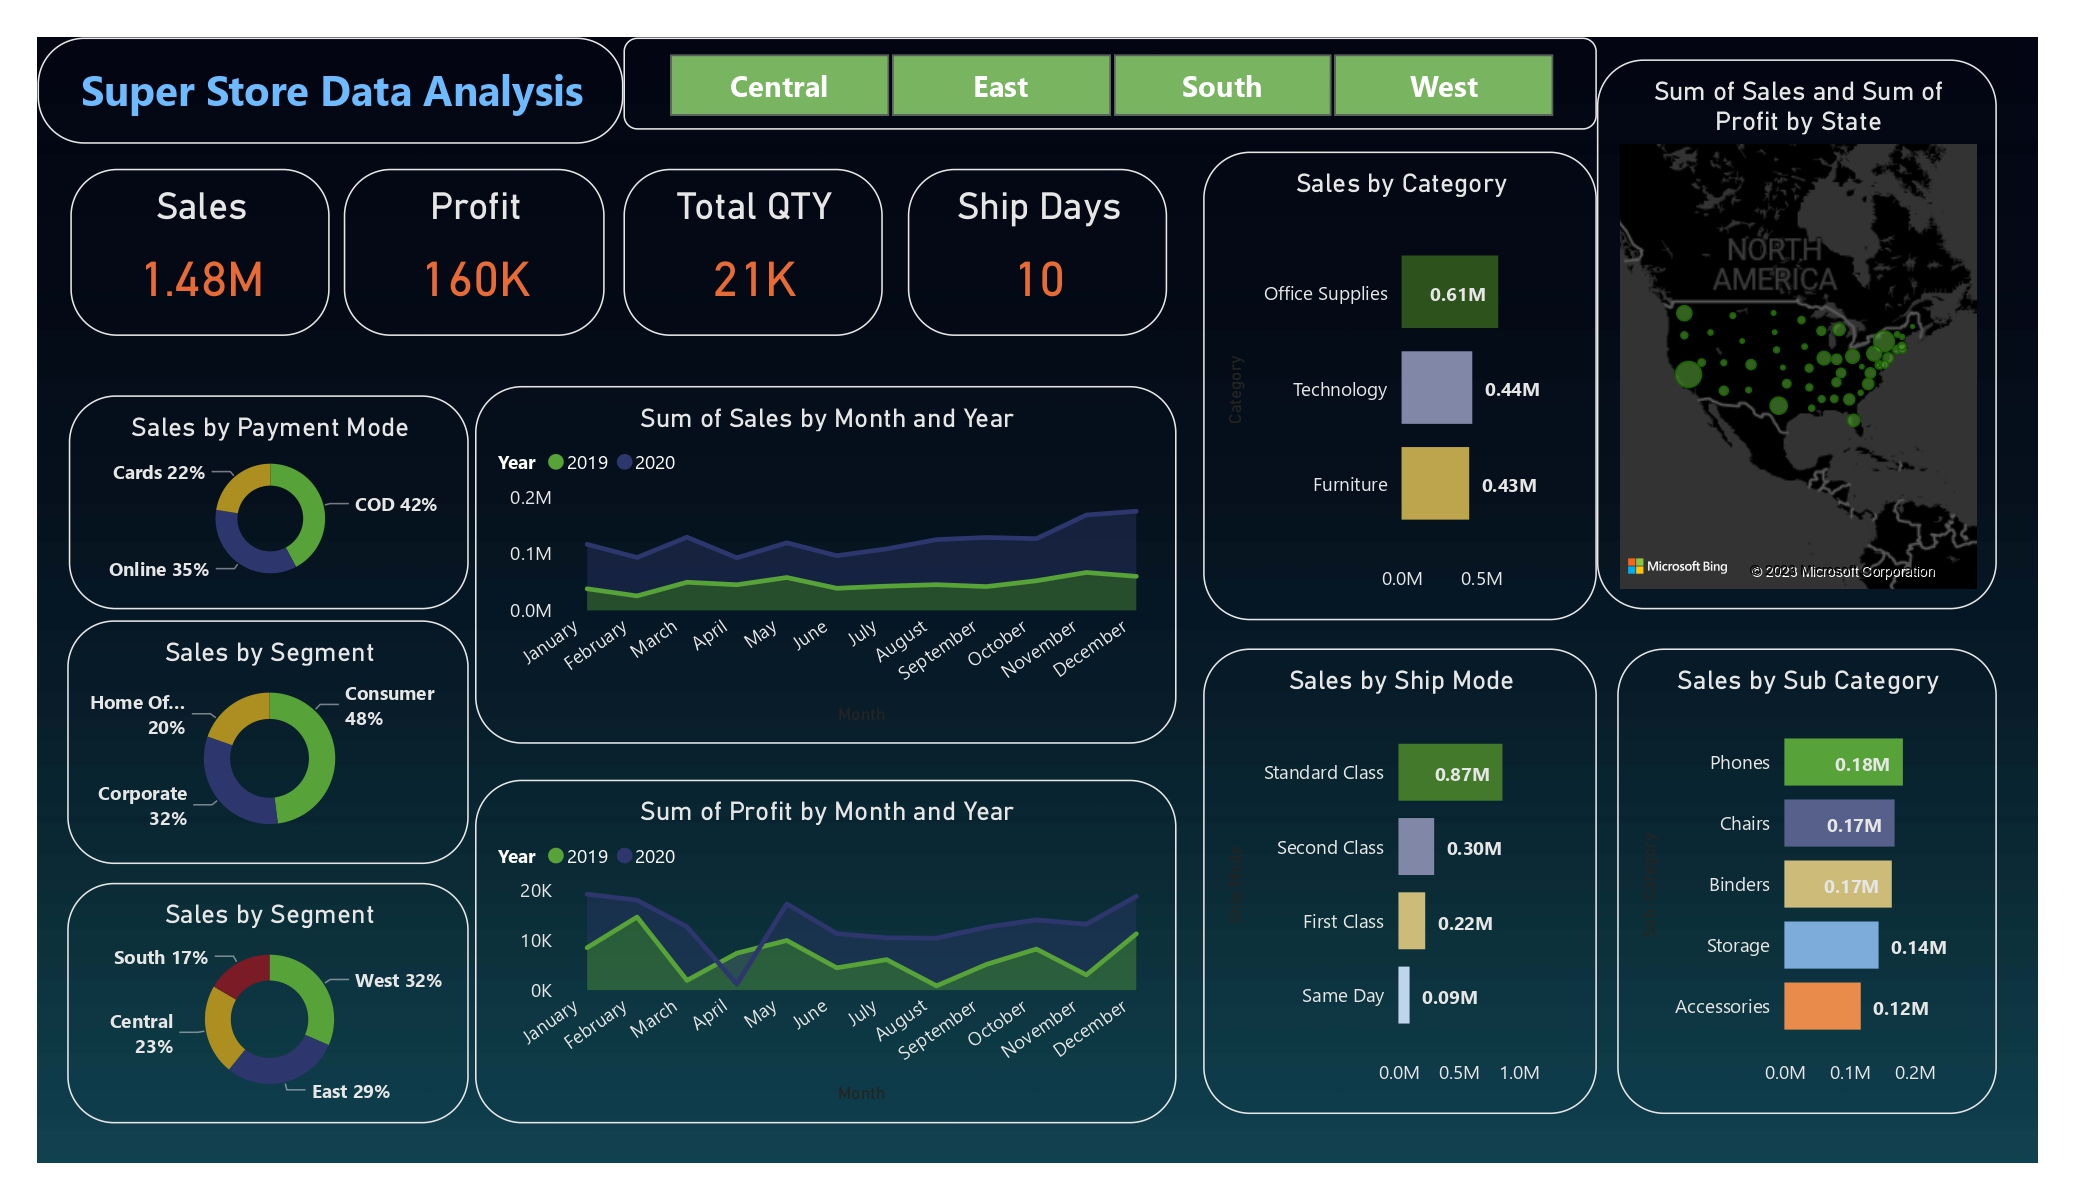

What the dashboard file says about the page in this screenshot:
{"tool":"powerbi","page":{"name":"Data Analysis","canvas":[1280,720],"ordinal":0},"visuals":[{"type":"clusteredBarChart","title":"Sales by Category","fields":{"Category":["SuperStore_Sales_Dataset.Category"],"Y":["Sum(SuperStore_Sales_Dataset.Sales)"]},"box":[746.4,73.2,251.8,300],"z":0},{"type":"clusteredBarChart","title":"Sales by Sub Category","fields":{"Y":["Sum(SuperStore_Sales_Dataset.Sales)"],"Category":["SuperStore_Sales_Dataset.Sub-Category"]},"box":[1010.7,391.1,242.9,298.2],"z":1000},{"type":"clusteredBarChart","title":"Sales by Ship Mode","fields":{"Category":["SuperStore_Sales_Dataset.Ship Mode"],"Y":["Sum(SuperStore_Sales_Dataset.Sales)"]},"box":[746.4,391.1,251.8,298.2],"z":2000},{"type":"stackedAreaChart","fields":{"Category":["SuperStore_Sales_Dataset.Order Date.Variation.Date Hierarchy.Month"],"Y":["Sum(SuperStore_Sales_Dataset.Sales)"],"Series":["SuperStore_Sales_Dataset.Order Date.Variation.Date Hierarchy.Year"]},"box":[280.4,223.2,448.2,228.6],"z":3000},{"type":"stackedAreaChart","fields":{"Y":["Sum(SuperStore_Sales_Dataset.Profit)"],"Category":["SuperStore_Sales_Dataset.Order Date.Variation.Date Hierarchy.Month"],"Series":["SuperStore_Sales_Dataset.Order Date.Variation.Date Hierarchy.Year"]},"box":[280.4,475,448.2,219.6],"z":4000},{"type":"map","fields":{"Category":["SuperStore_Sales_Dataset.State"],"Size":["Sum(SuperStore_Sales_Dataset.Sales)"]},"box":[998.2,14.3,255.4,351.8],"z":5000},{"type":"donutChart","title":"Sales by Payment Mode","fields":{"Category":["SuperStore_Sales_Dataset.Payment Mode"],"Y":["Sum(SuperStore_Sales_Dataset.Sales)"]},"box":[20.3,228.8,255.9,137.3],"z":6000},{"type":"donutChart","title":"Sales by Segment","fields":{"Category":["SuperStore_Sales_Dataset.Segment"],"Y":["Sum(SuperStore_Sales_Dataset.Sales)"]},"box":[18.6,372.9,257.6,155.9],"z":7000},{"type":"slicer","fields":{"Values":["SuperStore_Sales_Dataset.Region"]},"box":[374.6,0,623.7,59.3],"z":8000},{"type":"textbox","box":[0,0,374.6,67.8],"z":9000},{"type":"card","title":"Sales","fields":{"Values":["Sum(SuperStore_Sales_Dataset.Sales)"]},"box":[21.4,83.9,166.1,107.1],"z":10000},{"type":"card","title":"Profit","fields":{"Values":["Sum(SuperStore_Sales_Dataset.Profit)"]},"box":[196.4,83.9,166.1,107.1],"z":11000},{"type":"card","title":"Total QTY","fields":{"Values":["Sum(SuperStore_Sales_Dataset.Quantity)"]},"box":[375,83.9,166.1,107.1],"z":12000},{"type":"card","title":"Ship Days ","fields":{"Values":["Avg(SuperStore_Sales_Dataset.Avg Delivery)"]},"box":[557.1,83.9,166.1,107.1],"z":13000},{"type":"donutChart","title":"Sales by Segment","fields":{"Category":["SuperStore_Sales_Dataset.Region"],"Y":["Sum(SuperStore_Sales_Dataset.Sales)"]},"box":[18.6,540.7,257.6,154.2],"z":14000}]}

Visuals, with their boxes in screenshot pixels (x1, y1, x2, y2):
"Sales by Category" clusteredBarChart: <region>1204, 152, 1597, 621</region>
"Sales by Sub Category" clusteredBarChart: <region>1617, 649, 1996, 1115</region>
"Sales by Ship Mode" clusteredBarChart: <region>1204, 649, 1597, 1115</region>
stackedAreaChart - SuperStore_Sales_Dataset.Order Date.Variation.Date Hierarchy.Month x Sum(SuperStore_Sales_Dataset.Sales): <region>476, 386, 1176, 743</region>
stackedAreaChart - Sum(SuperStore_Sales_Dataset.Profit) x SuperStore_Sales_Dataset.Order Date.Variation.Date Hierarchy.Month: <region>476, 780, 1176, 1123</region>
map - SuperStore_Sales_Dataset.State x Sum(SuperStore_Sales_Dataset.Sales): <region>1597, 60, 1996, 610</region>
"Sales by Payment Mode" donutChart: <region>69, 395, 469, 610</region>
"Sales by Segment" donutChart: <region>67, 620, 469, 864</region>
slicer - SuperStore_Sales_Dataset.Region: <region>623, 38, 1597, 130</region>
textbox: <region>38, 38, 623, 143</region>
"Sales" card: <region>71, 169, 330, 336</region>
"Profit" card: <region>344, 169, 604, 336</region>
"Total QTY" card: <region>623, 169, 883, 336</region>
"Ship Days " card: <region>908, 169, 1168, 336</region>
"Sales by Segment" donutChart: <region>67, 882, 469, 1123</region>
